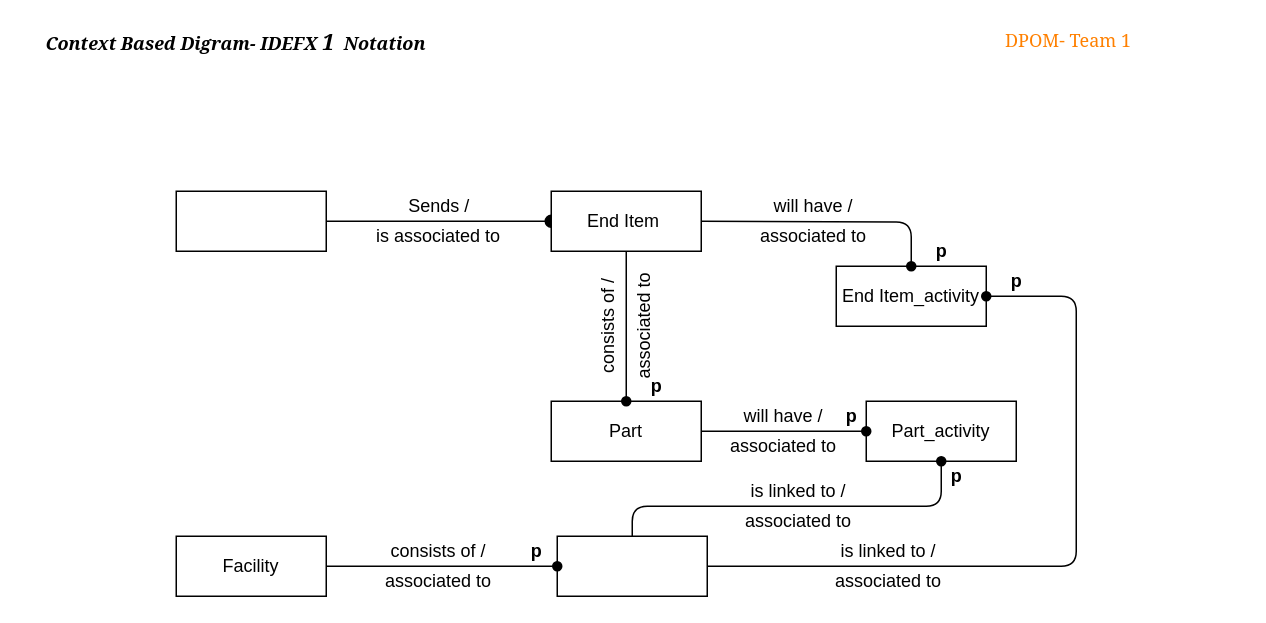
Some shapes in this 1266 by 623 pixel diagram are drawn without their labels. The centre of each missing label's shape, as x and y in pixels:
"Customer" belongs at point 250,220.
"Department" belongs at point 631,565.
